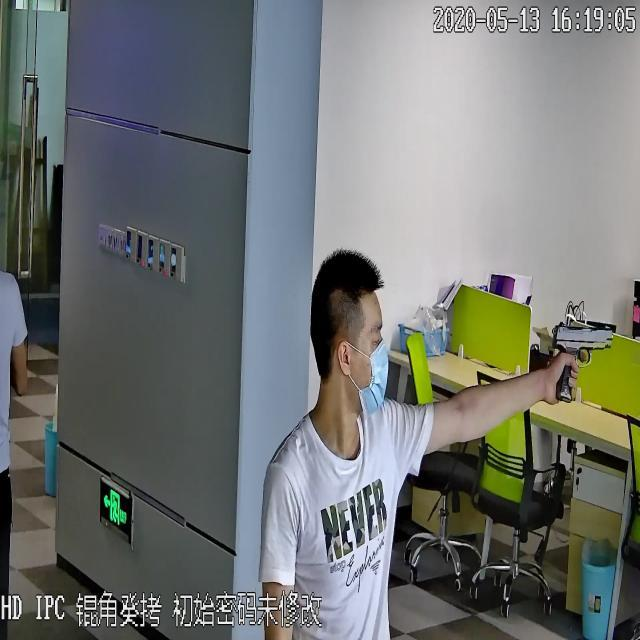gun: (552, 317, 614, 406)
